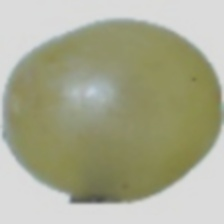grapes: (52, 24, 203, 163)
